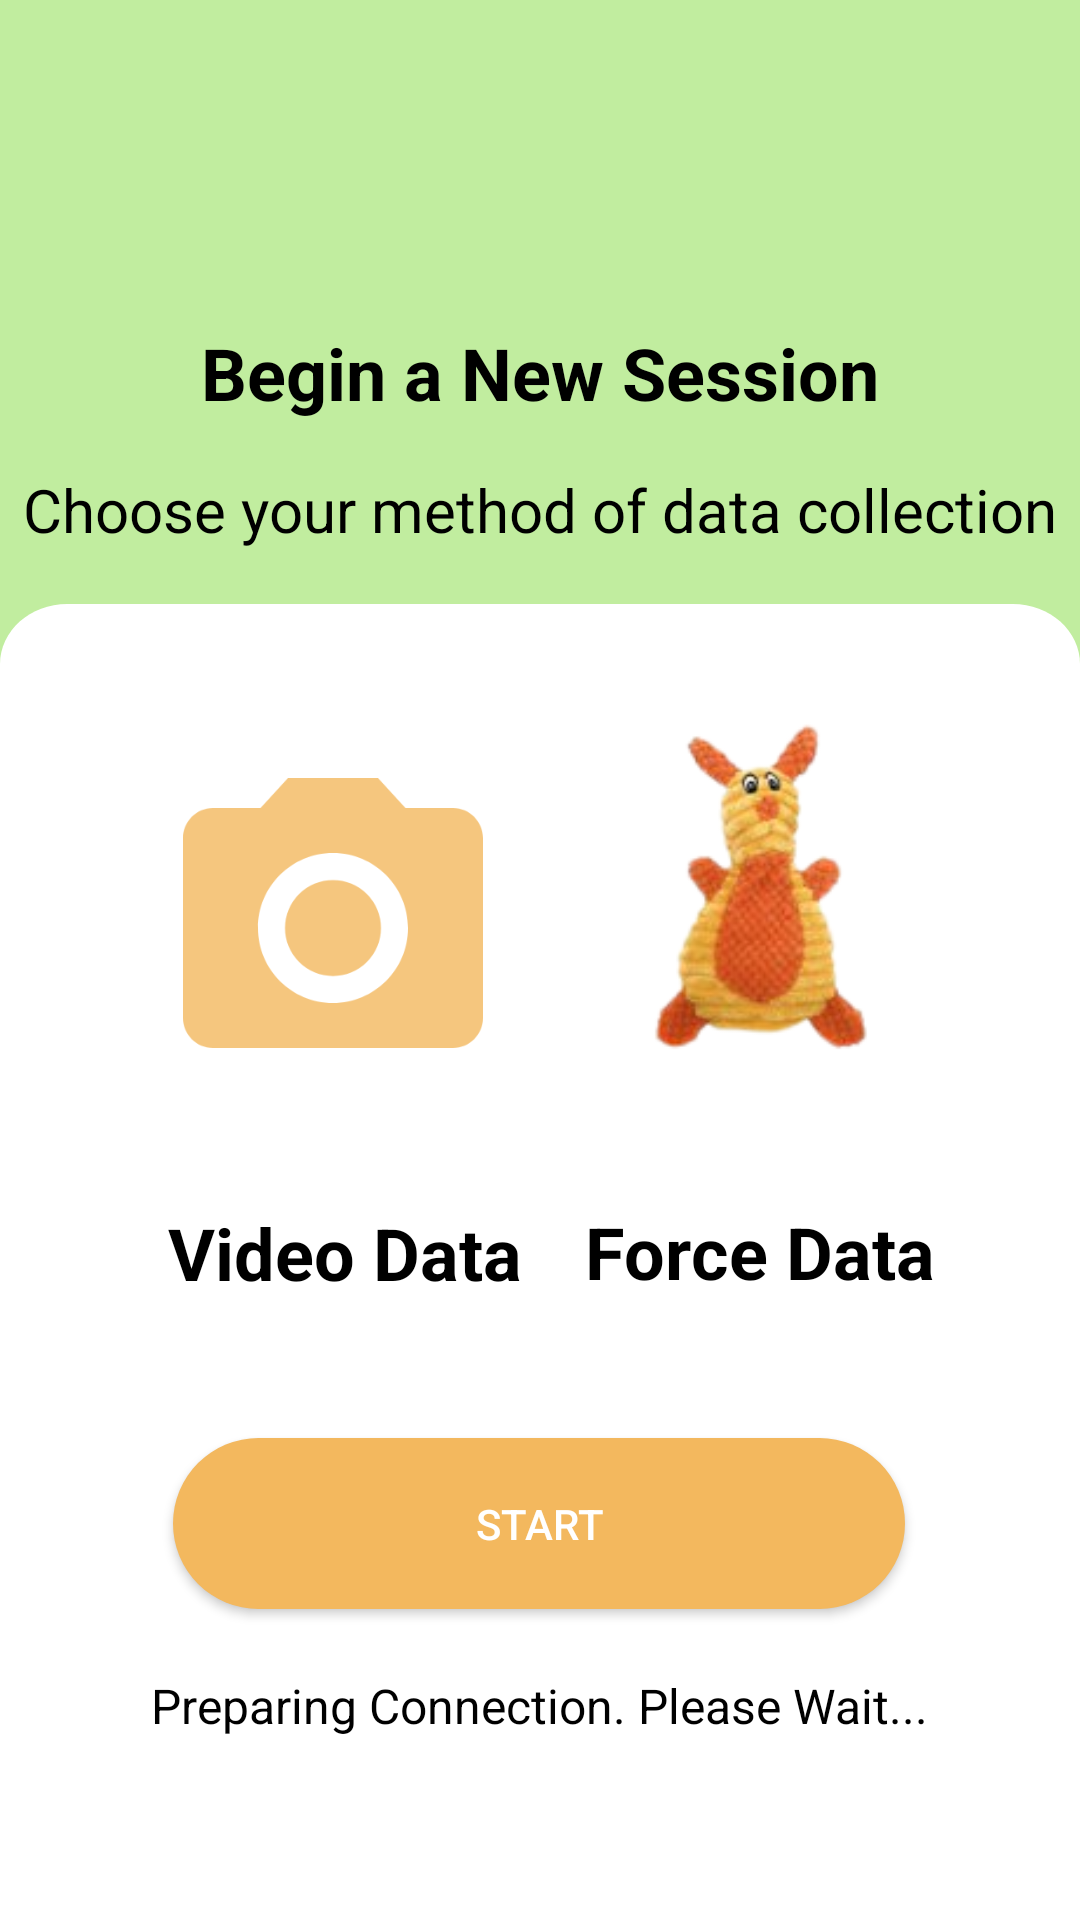

Screen size 1080px×1920px. Icon name, then its center in pixels as (x=x, y=y):
camera: (x=333, y=913)
